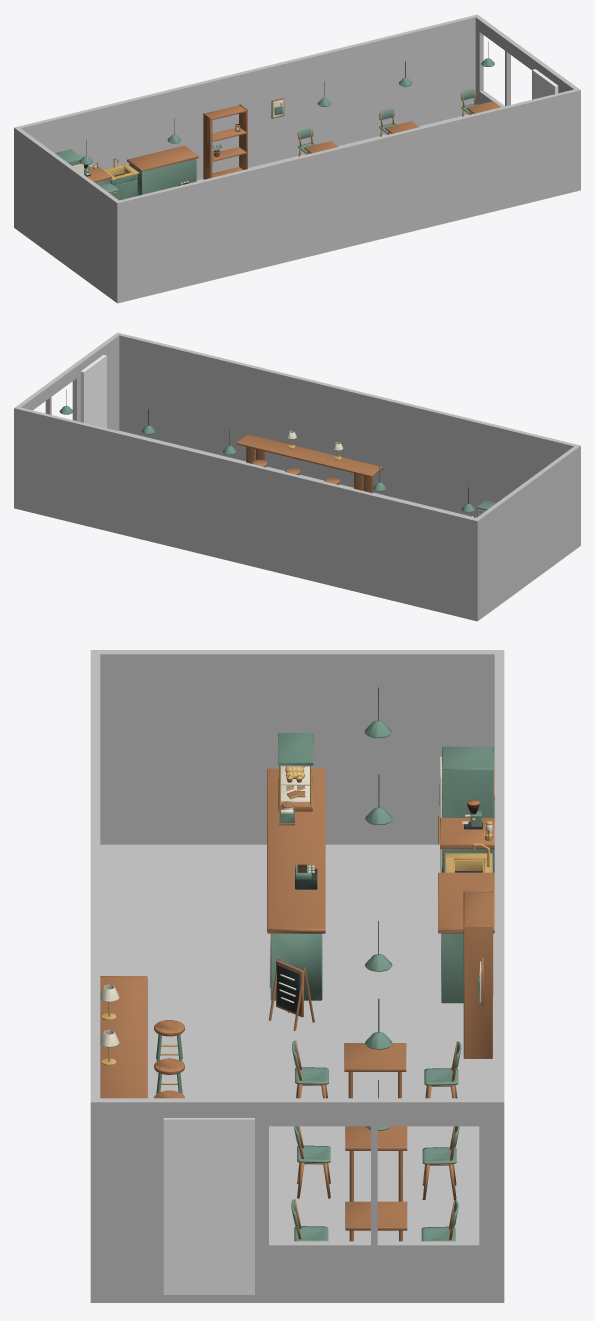
Rendered from Day3CafeFurnished.fbx.
The picture shows the model from 3 angles, top to bottom: view 1: azimuth 30°, elevation 25°; view 2: azimuth 150°, elevation 25°; view 3: azimuth 270°, elevation 25°; orthographic projection. The views are drawn at different scales.
Parts seen in each view (by area): view 1: Body1, LC_058_service_counter.003, LC_059_open_shelving, LC_070_sink_unit, CTRL_Hole; view 2: Body1, LC_053_square_table.003, CTRL_Hole; view 3: Body1, CTRL_Hole, LC_058_service_counter.002, LC_053_square_table.003, LC_059_open_shelving, LC_058_service_counter.003, LC_061_fridge, LC_068_pastry_display, LC_053_square_table.002, LC_053_square_table.001, LC_053_square_table, LC_058_service_counter.001 (+6 smaller).
Part boxes in pixels (left/top/right/bottom): Body1: left=14, top=14, right=580, bottom=303; LC_058_service_counter.003: left=127, top=145, right=198, bottom=195; LC_059_open_shelving: left=203, top=104, right=247, bottom=179; LC_070_sink_unit: left=104, top=158, right=139, bottom=200; CTRL_Hole: left=532, top=69, right=558, bottom=99; Body1: left=14, top=332, right=580, bottom=621; LC_053_square_table.003: left=235, top=434, right=383, bottom=493; CTRL_Hole: left=80, top=355, right=106, bottom=428; Body1: left=90, top=650, right=504, bottom=1302; CTRL_Hole: left=163, top=1118, right=254, bottom=1294; LC_058_service_counter.002: left=267, top=768, right=325, bottom=1000; LC_053_square_table.003: left=100, top=976, right=147, bottom=1098; LC_059_open_shelving: left=463, top=890, right=492, bottom=1058; LC_058_service_counter.003: left=438, top=872, right=494, bottom=1003; LC_061_fridge: left=438, top=746, right=493, bottom=872; LC_068_pastry_display: left=278, top=733, right=313, bottom=811; LC_053_square_table.002: left=344, top=1043, right=406, bottom=1098; LC_053_square_table.001: left=345, top=1126, right=407, bottom=1201; LC_053_square_table: left=345, top=1201, right=407, bottom=1241; LC_058_service_counter.001: left=440, top=818, right=494, bottom=872.
Bounding box in the file's own units: 1256 × 260 × 480.
